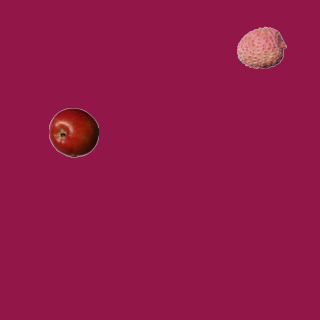Apple Braeburn: (48, 107, 98, 157)
Lychee: (236, 22, 286, 72)
